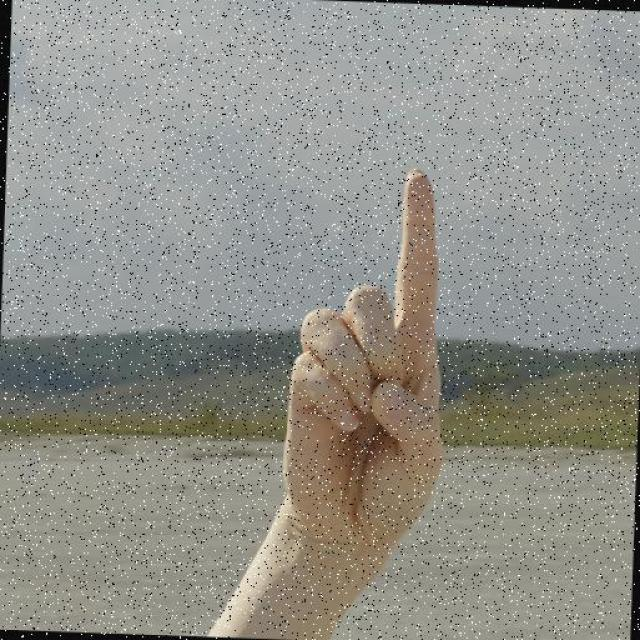D: (257, 154, 468, 580)
